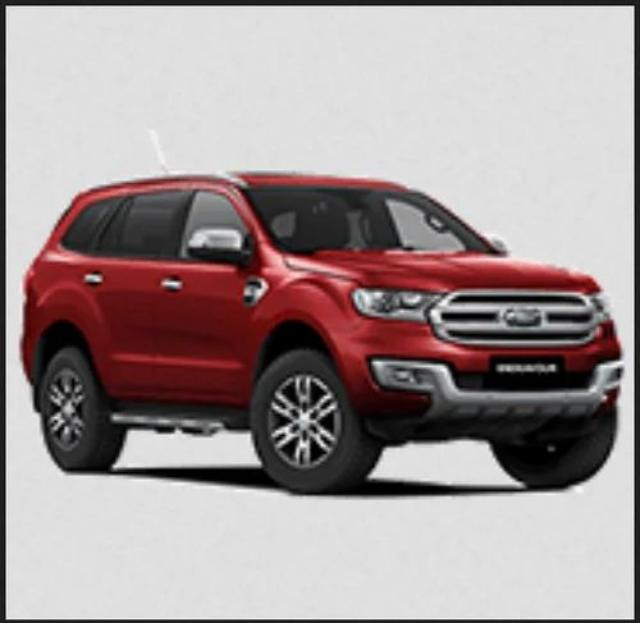ford: (20, 172, 626, 492)
